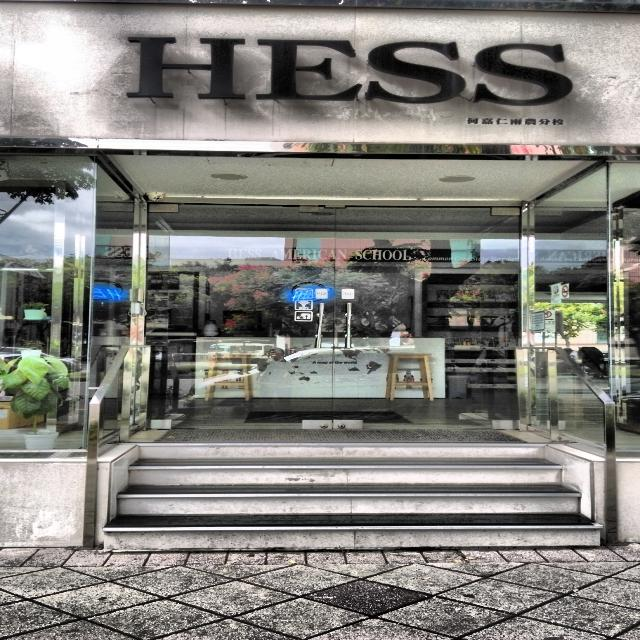escada: (90, 444, 599, 548)
